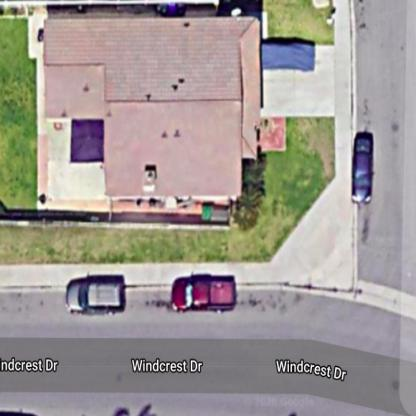car: (55, 267, 138, 324), (170, 265, 245, 320), (345, 126, 381, 206)
